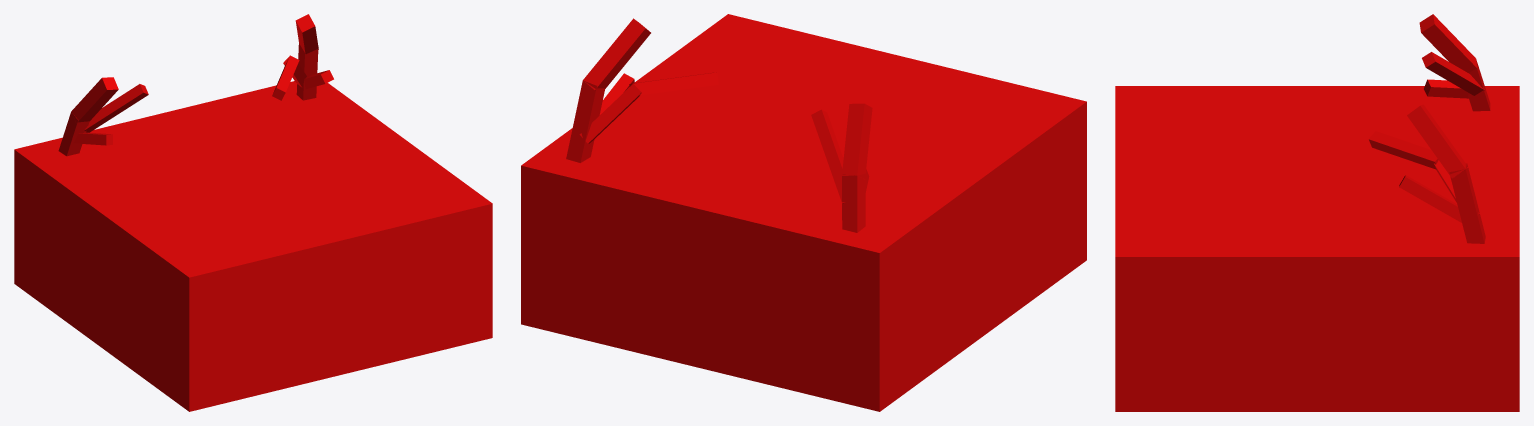
Rendered from SM_Bld_Pylon_Broken_Base_01_Collision.fbx.
3 views of the same model, side by side, from view 1: azimuth 30°, elevation 25°; view 2: azimuth 150°, elevation 25°; view 3: azimuth 270°, elevation 25° (orthographic). The views are drawn at different scales.
Visible parts, largest first — view 1: SM_Bld_Pylon_Broken_Base_01_Collision; view 2: SM_Bld_Pylon_Broken_Base_01_Collision; view 3: SM_Bld_Pylon_Broken_Base_01_Collision.
Part boxes in pixels (left/top/right/bottom): SM_Bld_Pylon_Broken_Base_01_Collision: left=14, top=14, right=492, bottom=411; SM_Bld_Pylon_Broken_Base_01_Collision: left=521, top=14, right=1086, bottom=411; SM_Bld_Pylon_Broken_Base_01_Collision: left=1115, top=14, right=1519, bottom=411.
Size of the model in its own units: 803 by 607 by 803.
